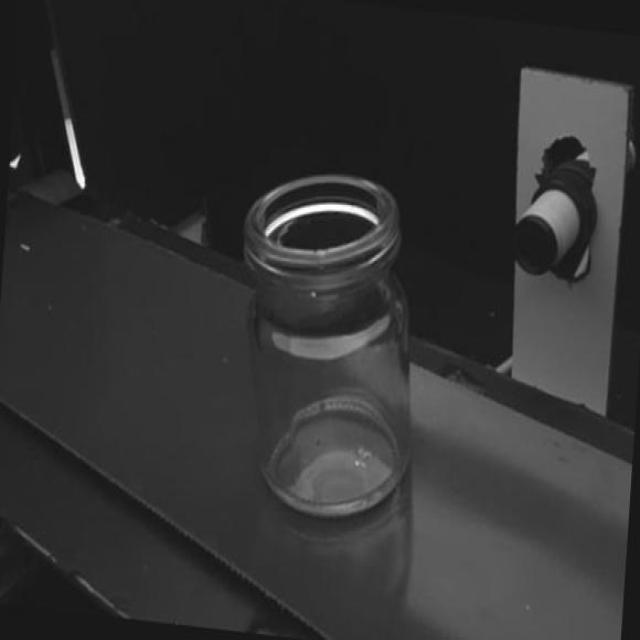defect: (302, 238, 338, 271), (303, 282, 320, 303)
glass: (214, 154, 438, 535)
